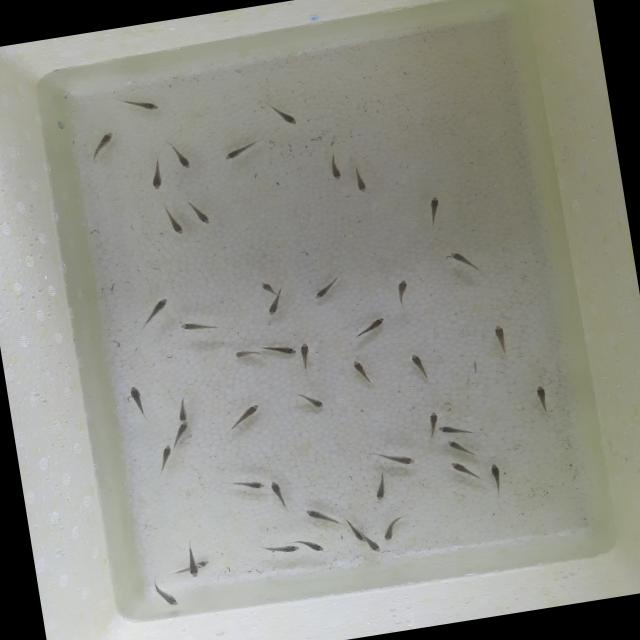fingerling: (217, 403, 266, 438), (264, 96, 304, 133), (136, 295, 174, 329), (116, 90, 160, 118), (146, 574, 179, 611), (88, 130, 119, 163), (166, 138, 196, 172), (376, 446, 416, 471), (145, 152, 170, 192), (160, 200, 186, 238), (221, 138, 262, 162), (184, 197, 213, 229), (178, 316, 222, 337), (348, 160, 371, 197), (258, 339, 298, 360), (294, 388, 326, 414), (437, 420, 478, 440), (304, 505, 338, 529), (446, 246, 479, 270), (352, 316, 388, 338), (129, 383, 151, 419), (324, 151, 348, 184), (269, 478, 291, 513), (424, 196, 445, 232), (184, 540, 202, 582), (490, 322, 511, 356), (392, 278, 414, 310), (378, 516, 404, 543), (228, 476, 266, 494), (371, 470, 392, 502), (170, 421, 195, 447), (262, 542, 302, 558), (362, 526, 382, 557), (450, 458, 478, 480), (173, 388, 190, 424), (446, 436, 474, 457), (408, 350, 429, 378), (532, 384, 550, 416), (264, 294, 286, 320), (350, 356, 370, 384), (296, 338, 315, 366), (310, 280, 336, 300), (488, 462, 505, 492), (304, 536, 328, 556), (158, 442, 176, 468), (423, 408, 441, 432), (232, 344, 259, 360), (258, 280, 277, 296), (198, 558, 212, 570)
